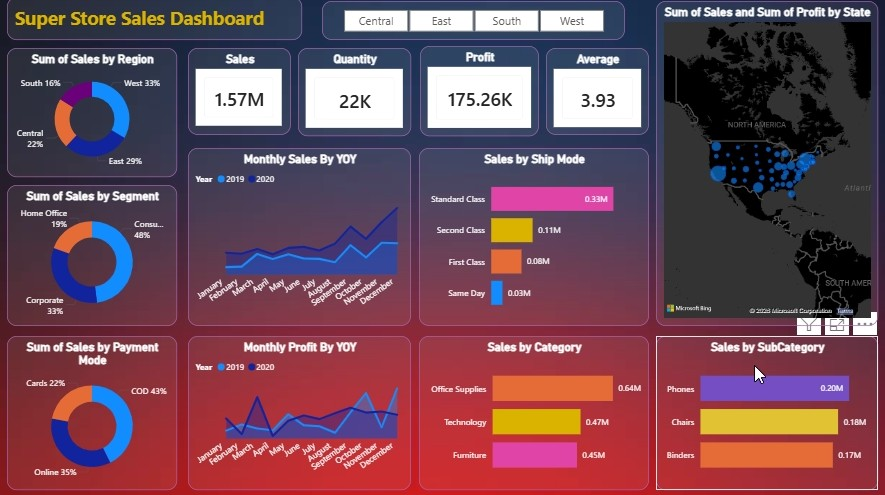

The page's visual inventory and layout, read from the dashboard file:
{"tool":"powerbi","page":{"name":"Page 1","canvas":[1280,720],"ordinal":0},"visuals":[{"type":"clusteredBarChart","title":"Sales by Category","fields":{"Category":["SuperStore_Sales_Dataset.Category"],"Y":["Sum(SuperStore_Sales_Dataset.Sales)"]},"box":[606.2,488.2,331.2,221.8],"z":0},{"type":"clusteredBarChart","title":"Sales by SubCategory","fields":{"Y":["Sum(SuperStore_Sales_Dataset.Sales)"],"Category":["SuperStore_Sales_Dataset.Sub-Category"]},"box":[947.5,488.2,319.7,221.8],"z":1000},{"type":"clusteredBarChart","title":"Sales by Ship Mode","fields":{"Y":["Sum(SuperStore_Sales_Dataset.Sales)"],"Category":["SuperStore_Sales_Dataset.Ship Mode"]},"box":[606.2,217.4,331.2,256.3],"z":2000},{"type":"areaChart","title":" Monthly Sales By YOY","fields":{"Y":["Sum(SuperStore_Sales_Dataset.Sales)"],"Category":["SuperStore_Sales_Dataset.Order Date.Variation.Date Hierarchy.Month","SuperStore_Sales_Dataset.Order Date.Variation.Date Hierarchy.Day"],"Series":["SuperStore_Sales_Dataset.Order Date.Variation.Date Hierarchy.Year"]},"box":[273.6,217.4,321.1,256.3],"z":3000},{"type":"areaChart","title":" Monthly Profit By YOY","fields":{"Category":["SuperStore_Sales_Dataset.Order Date.Variation.Date Hierarchy.Month","SuperStore_Sales_Dataset.Order Date.Variation.Date Hierarchy.Day"],"Series":["SuperStore_Sales_Dataset.Order Date.Variation.Date Hierarchy.Year"],"Y":["Sum(SuperStore_Sales_Dataset.Profit)"]},"box":[273.6,488.2,321.1,221.8],"z":4000},{"type":"map","fields":{"Category":["SuperStore_Sales_Dataset.State"],"Size":["Sum(SuperStore_Sales_Dataset.Sales)"]},"box":[947.5,5.8,319.7,468],"z":5000},{"type":"donutChart","fields":{"Category":["SuperStore_Sales_Dataset.Segment"],"Y":["Sum(SuperStore_Sales_Dataset.Sales)"]},"box":[13,270.7,244.8,203],"z":6000},{"type":"donutChart","fields":{"Y":["Sum(SuperStore_Sales_Dataset.Sales)"],"Category":["SuperStore_Sales_Dataset.Payment Mode"]},"box":[13,488.2,244.8,221.8],"z":7000},{"type":"slicer","fields":{"Values":["SuperStore_Sales_Dataset.Region"]},"box":[466.6,5.8,436.3,56.2],"z":8000},{"type":"textbox","box":[13,0,424.8,61.9],"z":9000},{"type":"cardVisual","title":"Sales","fields":{"Data":["Sum(SuperStore_Sales_Dataset.Sales)"]},"box":[273.6,73.4,148.3,125.3],"z":10000},{"type":"cardVisual","title":"Quantity","fields":{"Data":["Sum(SuperStore_Sales_Dataset.Quantity)"]},"box":[432,73.4,162.7,126.7],"z":11000},{"type":"cardVisual","title":"Profit","fields":{"Data":["Sum(SuperStore_Sales_Dataset.Profit)"]},"box":[607.7,70.6,171.4,129.6],"z":12000},{"type":"cardVisual","title":"Average","fields":{"Data":["Avg(SuperStore_Sales_Dataset.AvgDelivery)"]},"box":[789.1,73.4,148.3,125.3],"z":13000},{"type":"donutChart","fields":{"Y":["Sum(SuperStore_Sales_Dataset.Sales)"],"Category":["SuperStore_Sales_Dataset.Region"]},"box":[13,73.4,244.8,185.8],"z":14000}]}

Visuals, with their boxes in screenshot pixels (x1, y1, x2, y2), scaled from the page's 1280x720 canvas onto the 885x495 screenshot:
"Sales by Category" clusteredBarChart: 419/336/648/488
"Sales by SubCategory" clusteredBarChart: 655/336/876/488
"Sales by Ship Mode" clusteredBarChart: 419/149/648/326
" Monthly Sales By YOY" areaChart: 189/149/411/326
" Monthly Profit By YOY" areaChart: 189/336/411/488
map - SuperStore_Sales_Dataset.State x Sum(SuperStore_Sales_Dataset.Sales): 655/4/876/326
donutChart - SuperStore_Sales_Dataset.Segment x Sum(SuperStore_Sales_Dataset.Sales): 9/186/178/326
donutChart - Sum(SuperStore_Sales_Dataset.Sales) x SuperStore_Sales_Dataset.Payment Mode: 9/336/178/488
slicer - SuperStore_Sales_Dataset.Region: 323/4/624/43
textbox: 9/0/303/43
"Sales" cardVisual: 189/50/292/137
"Quantity" cardVisual: 299/50/411/138
"Profit" cardVisual: 420/49/539/138
"Average" cardVisual: 546/50/648/137
donutChart - Sum(SuperStore_Sales_Dataset.Sales) x SuperStore_Sales_Dataset.Region: 9/50/178/178
